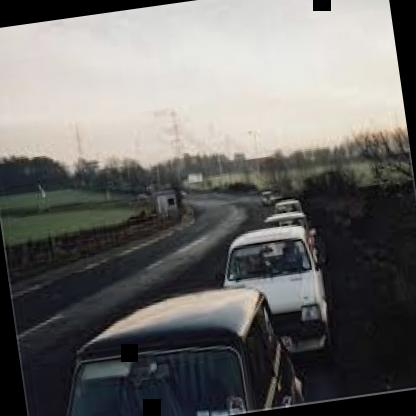car: (28, 263, 322, 416), (190, 208, 352, 370)
